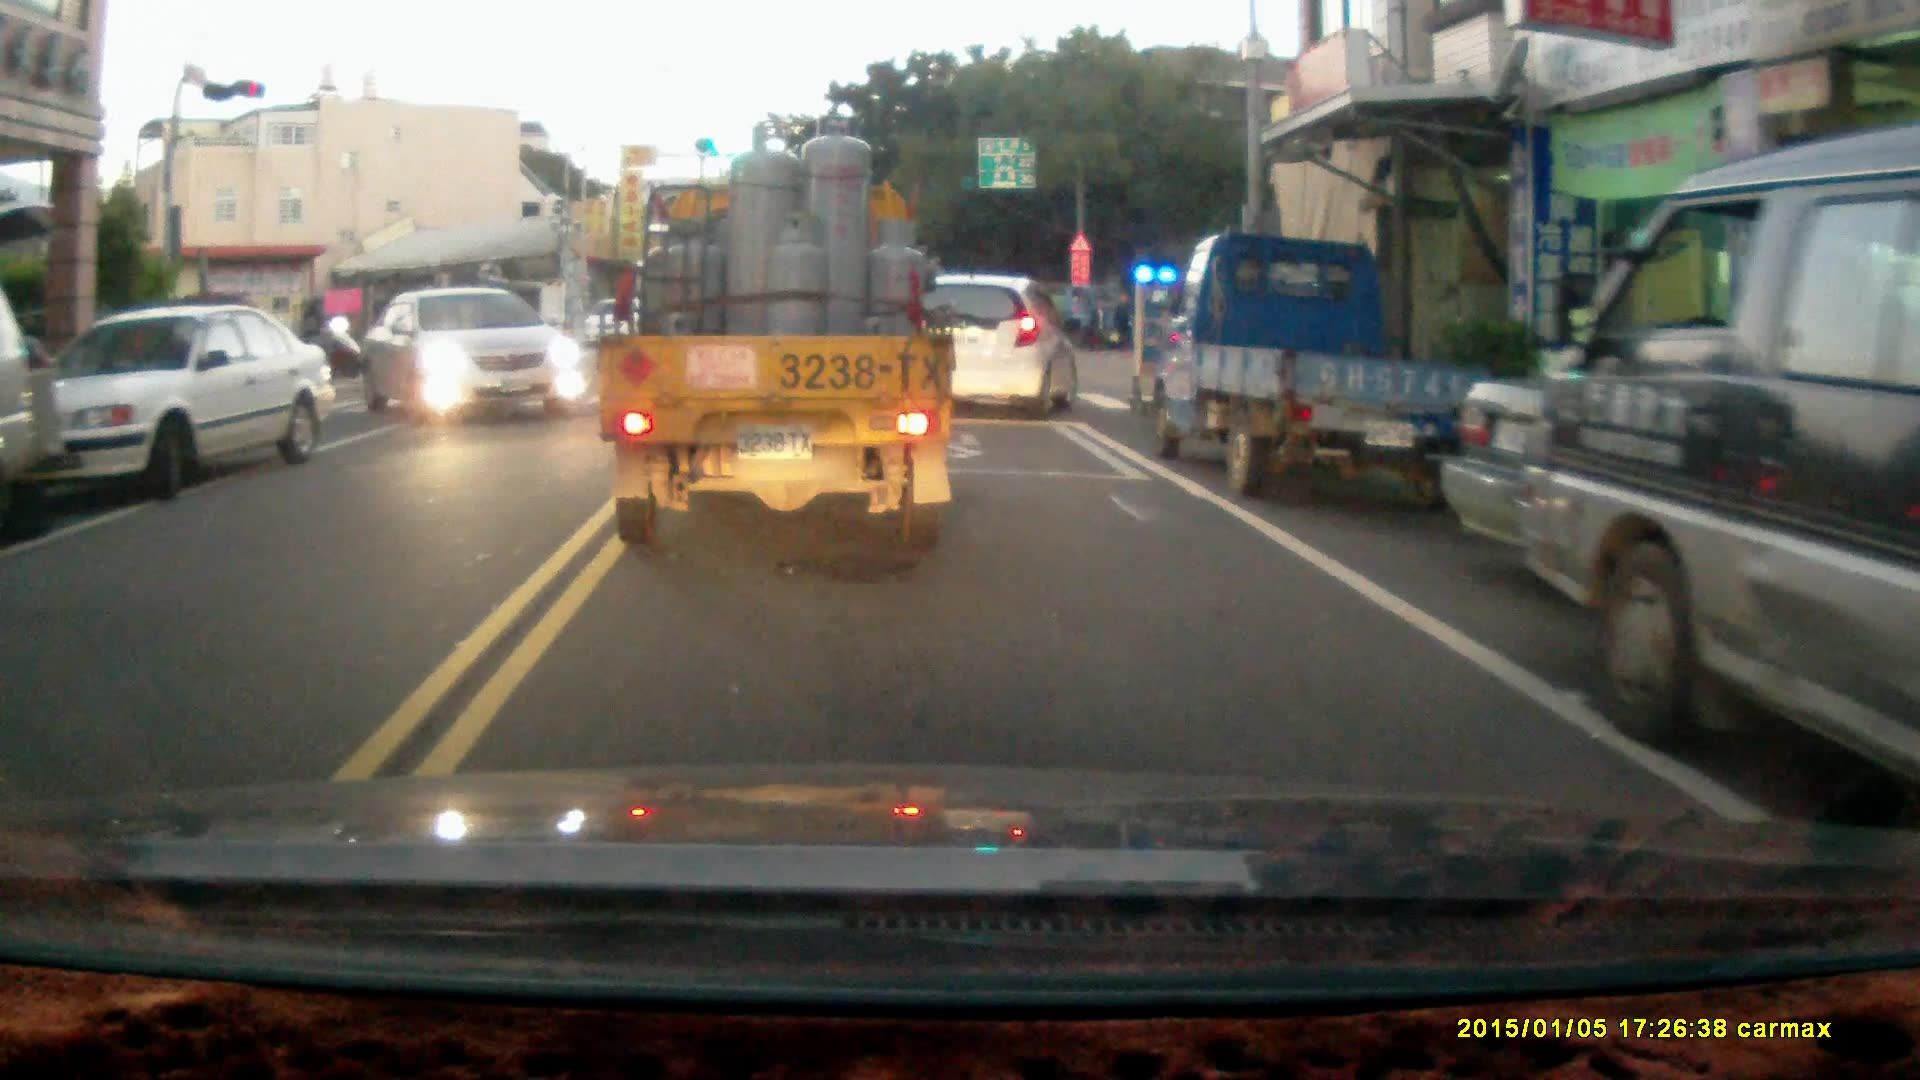rider: (280, 296, 364, 382)
vehicle: (1516, 127, 1920, 805), (595, 117, 959, 556), (1441, 335, 1920, 579), (1152, 233, 1486, 510), (29, 308, 342, 498), (362, 288, 592, 420), (895, 272, 1085, 415)
